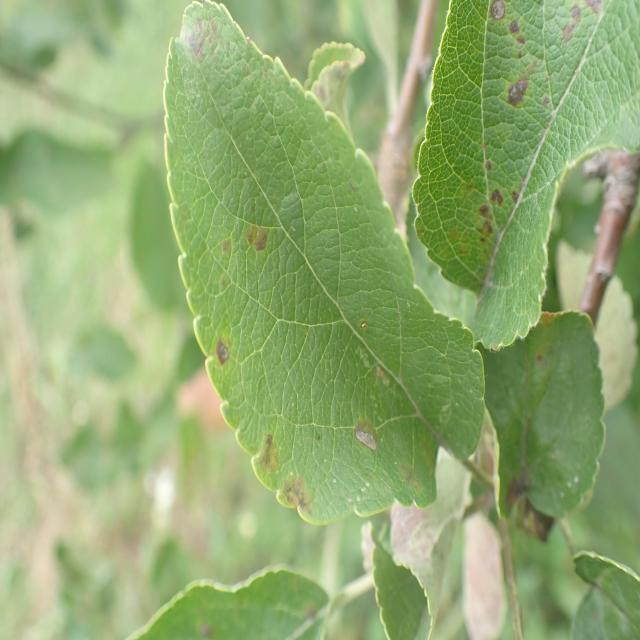frog-eye-leaf-spot: (161, 2, 486, 529), (412, 0, 640, 357)
